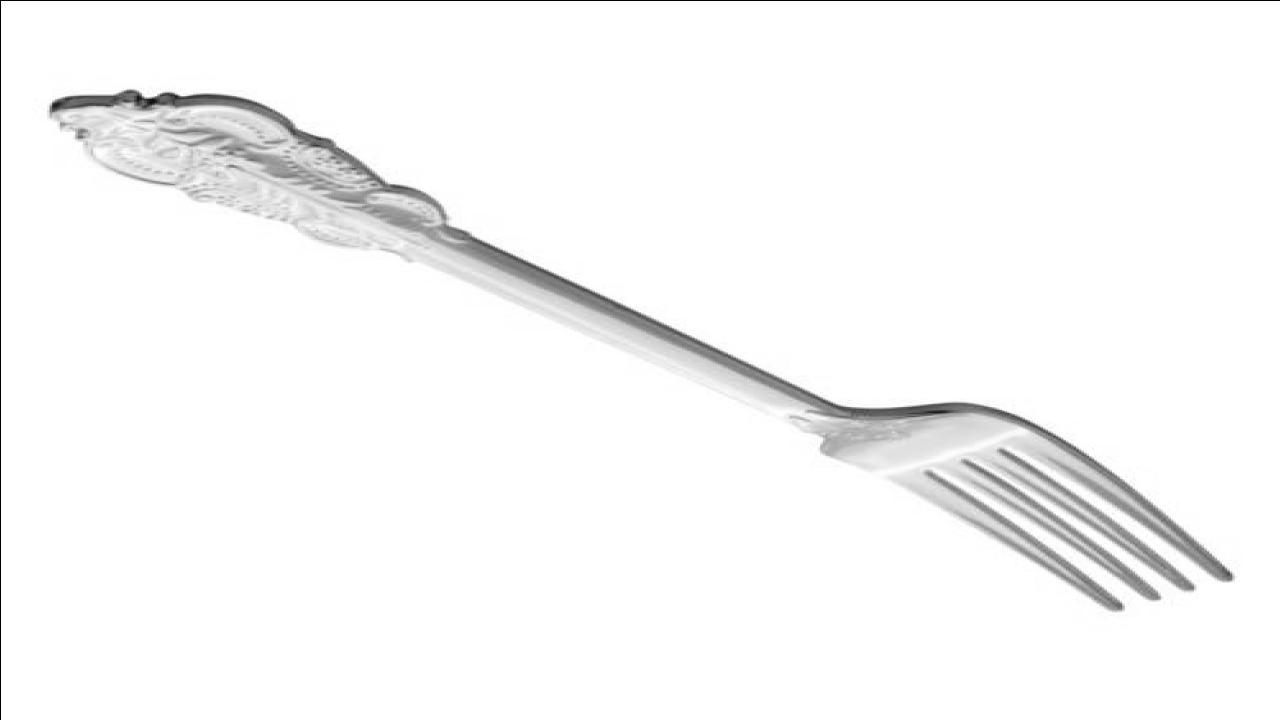fork: (49, 90, 1236, 614)
